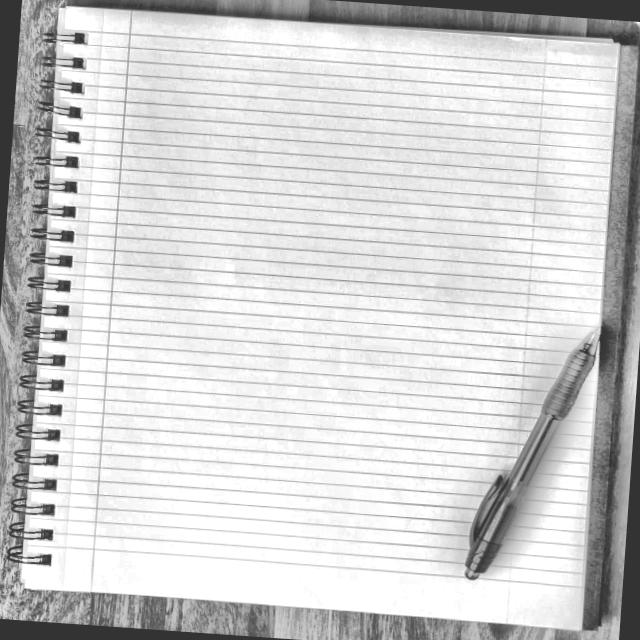Notebook: (3, 0, 630, 632)
Pen: (449, 321, 606, 598)
